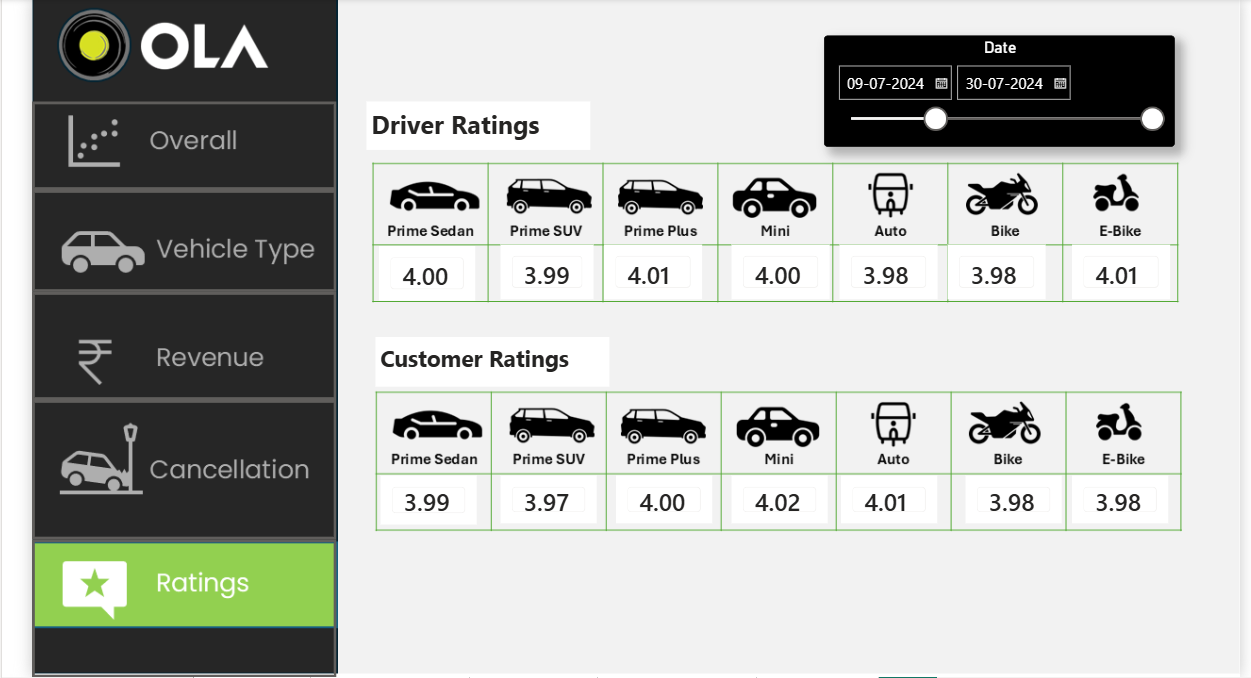

This screenshot's page, from the dashboard's own definition file:
{"tool":"powerbi","page":{"name":"Ratings","canvas":[1280,720],"ordinal":4},"visuals":[{"type":"actionButton","box":[0,109.8,322.9,93.8],"z":0},{"type":"actionButton","box":[0,203.6,322.9,108.2],"z":1000},{"type":"actionButton","box":[0,311.8,322.9,114.5],"z":2000},{"type":"actionButton","box":[0,426.3,322.9,147.9],"z":3000},{"type":"actionButton","box":[0,574.2,322.9,146.3],"z":4000},{"type":"cardVisual","fields":{"Data":["Avg(July.Driver_Ratings)"]},"box":[362.7,257.2,112.9,68.5],"z":5000},{"type":"cardVisual","fields":{"Data":["Avg(July.Driver_Ratings)"]},"box":[491.3,256.7,110,68.4],"z":6000},{"type":"cardVisual","fields":{"Data":["Avg(July.Driver_Ratings)"]},"box":[601.3,256.7,114.9,68.4],"z":7000},{"type":"cardVisual","fields":{"Data":["Avg(July.Driver_Ratings)"]},"box":[735.7,256.7,114.9,68.4],"z":8000},{"type":"cardVisual","fields":{"Data":["Avg(July.Driver_Ratings)"]},"box":[850.6,256.7,114.9,68.4],"z":9000},{"type":"cardVisual","fields":{"Data":["Avg(July.Driver_Ratings)"]},"box":[965.5,256.7,114.9,68.4],"z":10000},{"type":"cardVisual","fields":{"Data":["Avg(July.Driver_Ratings)"]},"box":[1097.5,256.7,114.9,68.4],"z":11000},{"type":"textbox","box":[354.4,110,237.1,51.3],"z":12000},{"type":"textbox","box":[364.2,359.5,248.1,52.5],"z":13000},{"type":"cardVisual","fields":{"Data":["Avg(July.Customer_Rating)"]},"box":[364.2,501,112.9,62],"z":14000},{"type":"cardVisual","fields":{"Data":["Avg(July.Customer_Rating)"]},"box":[491.3,501.1,112.4,61.1],"z":15000},{"type":"cardVisual","fields":{"Data":["Avg(July.Customer_Rating)"]},"box":[613.5,501.1,112.4,61.1],"z":16000},{"type":"cardVisual","fields":{"Data":["Avg(July.Customer_Rating)"]},"box":[735.7,501.1,112.4,61.1],"z":17000},{"type":"cardVisual","fields":{"Data":["Avg(July.Customer_Rating)"]},"box":[853.1,501.1,112.4,61.1],"z":18000},{"type":"cardVisual","fields":{"Data":["Avg(July.Customer_Rating)"]},"box":[985.1,501.1,112.4,61.1],"z":19000},{"type":"cardVisual","fields":{"Data":["Avg(July.Customer_Rating)"]},"box":[1097.5,501.1,112.4,61.1],"z":20000},{"type":"slicer","title":"Date","fields":{"Values":["July.Date"]},"box":[839.8,39.8,372.2,117.7],"z":21000}]}

Visuals, with their boxes on the page's 1280x720 design canvas (x1, y1, x2, y2). These are canvas units, not pixel positions in the 1251x678 screenshot, which may show the page scaled, cropped or inside an application window:
actionButton: (left=0, top=110, right=323, bottom=204)
actionButton: (left=0, top=204, right=323, bottom=312)
actionButton: (left=0, top=312, right=323, bottom=426)
actionButton: (left=0, top=426, right=323, bottom=574)
actionButton: (left=0, top=574, right=323, bottom=720)
cardVisual - Avg(July.Driver_Ratings): (left=363, top=257, right=476, bottom=326)
cardVisual - Avg(July.Driver_Ratings): (left=491, top=257, right=601, bottom=325)
cardVisual - Avg(July.Driver_Ratings): (left=601, top=257, right=716, bottom=325)
cardVisual - Avg(July.Driver_Ratings): (left=736, top=257, right=851, bottom=325)
cardVisual - Avg(July.Driver_Ratings): (left=851, top=257, right=966, bottom=325)
cardVisual - Avg(July.Driver_Ratings): (left=966, top=257, right=1080, bottom=325)
cardVisual - Avg(July.Driver_Ratings): (left=1098, top=257, right=1212, bottom=325)
textbox: (left=354, top=110, right=592, bottom=161)
textbox: (left=364, top=360, right=612, bottom=412)
cardVisual - Avg(July.Customer_Rating): (left=364, top=501, right=477, bottom=563)
cardVisual - Avg(July.Customer_Rating): (left=491, top=501, right=604, bottom=562)
cardVisual - Avg(July.Customer_Rating): (left=614, top=501, right=726, bottom=562)
cardVisual - Avg(July.Customer_Rating): (left=736, top=501, right=848, bottom=562)
cardVisual - Avg(July.Customer_Rating): (left=853, top=501, right=966, bottom=562)
cardVisual - Avg(July.Customer_Rating): (left=985, top=501, right=1098, bottom=562)
cardVisual - Avg(July.Customer_Rating): (left=1098, top=501, right=1210, bottom=562)
"Date" slicer: (left=840, top=40, right=1212, bottom=158)
